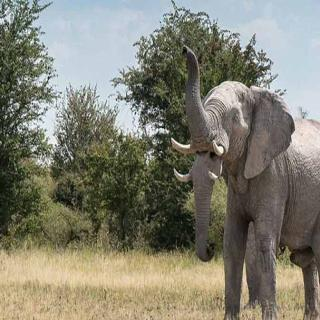Elephant: (167, 38, 320, 320)
